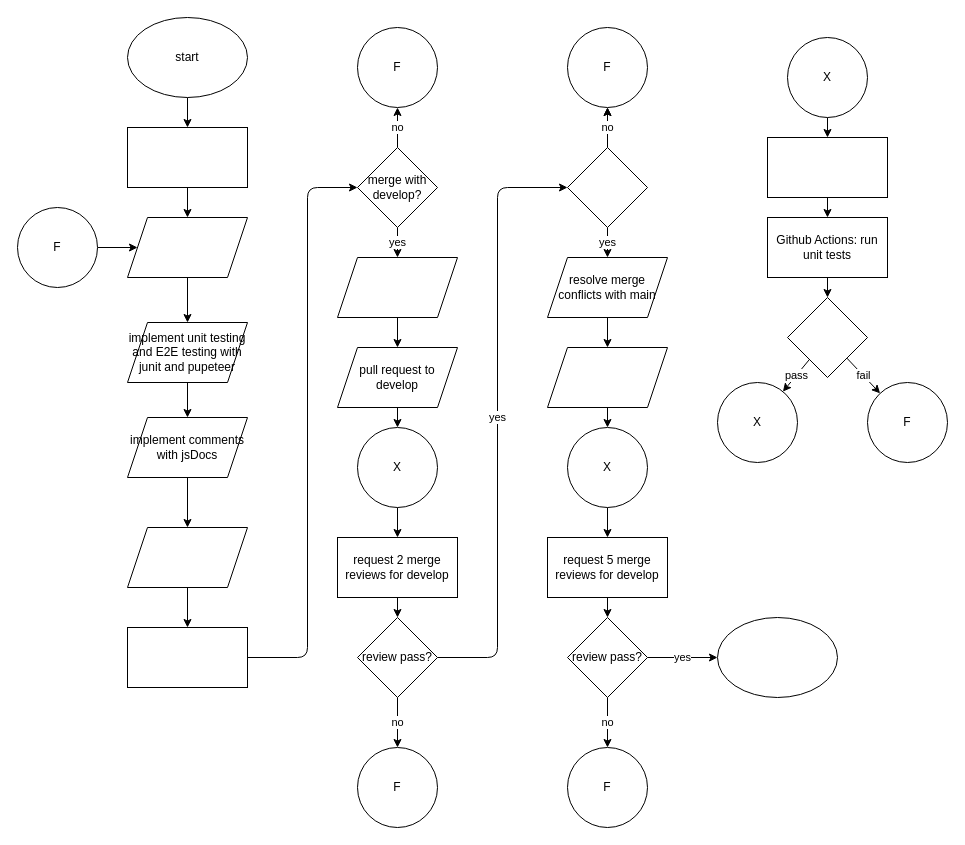
The diagram is 965 pixels wide and 845 high, and some of its shapes have lost their labels. Each missing label, with the centre of its shape:
"change code" goes at point 187,247.
"end" goes at point 777,657.
"Github Actions: format code with ESLint and prettier" goes at point 827,167.
"merge with main?" goes at point 607,187.
"pull code from team branch to local" goes at point 187,157.
"pull request to main" goes at point 607,377.
"push code to team branch" goes at point 187,657.
"resolve merge conflicts with develop" goes at point 397,287.
"resolve merge conflicts with team branch" goes at point 187,557.
"test pass?" goes at point 827,337.
